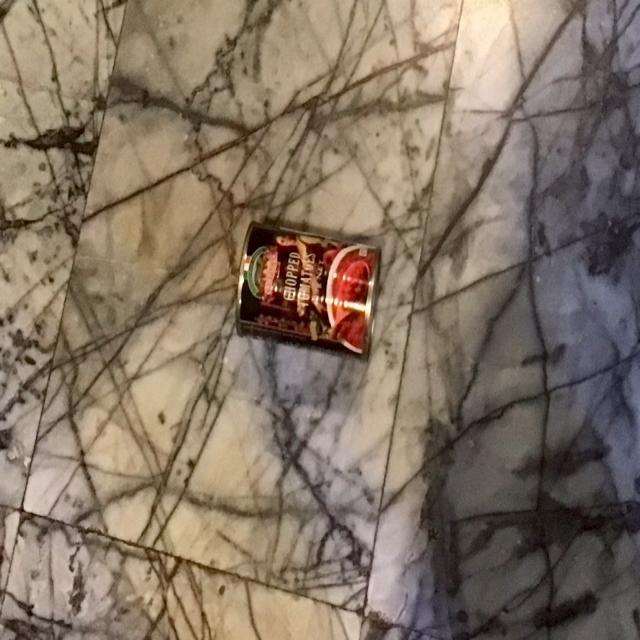can: (234, 218, 374, 370)
